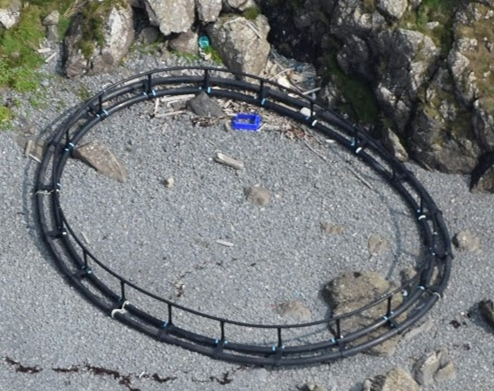white_in_green: (5, 16, 492, 391), (215, 93, 275, 148), (182, 15, 226, 63)
